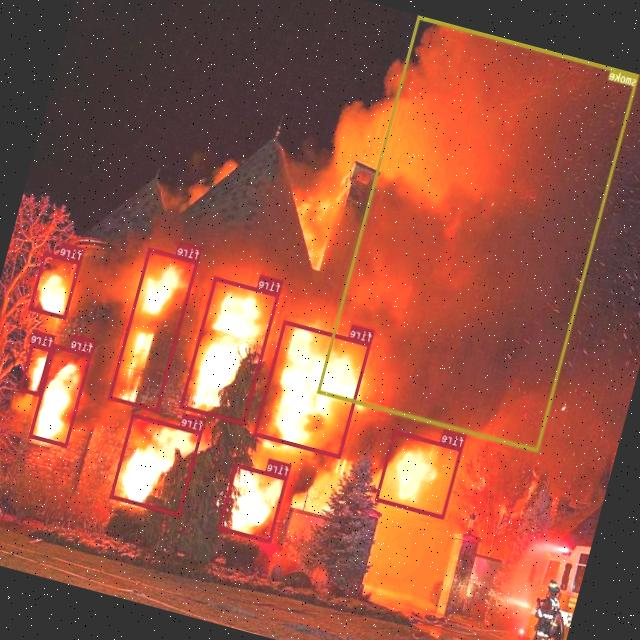fire: (254, 319, 372, 458), (180, 276, 280, 424), (108, 247, 198, 411), (110, 412, 202, 516), (375, 428, 463, 518), (29, 343, 92, 447), (218, 462, 288, 544), (29, 250, 81, 318), (18, 342, 52, 396)
smoke: (317, 15, 640, 452)
